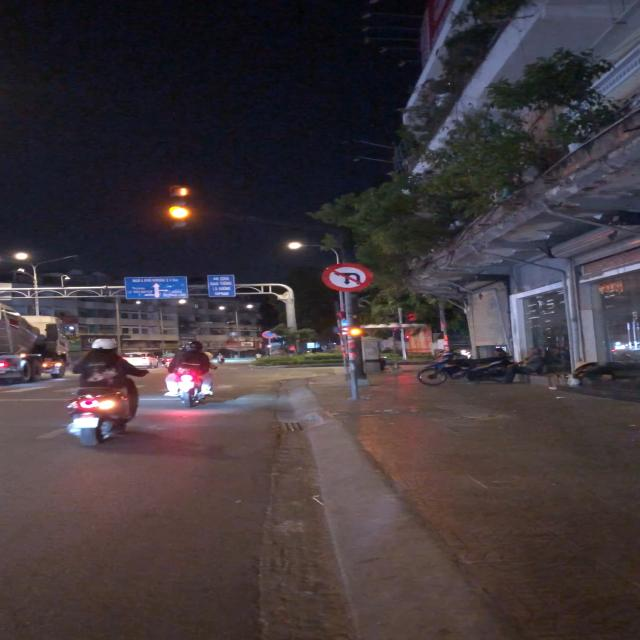Bien bao cam re trai va quay dau: (322, 262, 374, 293)
